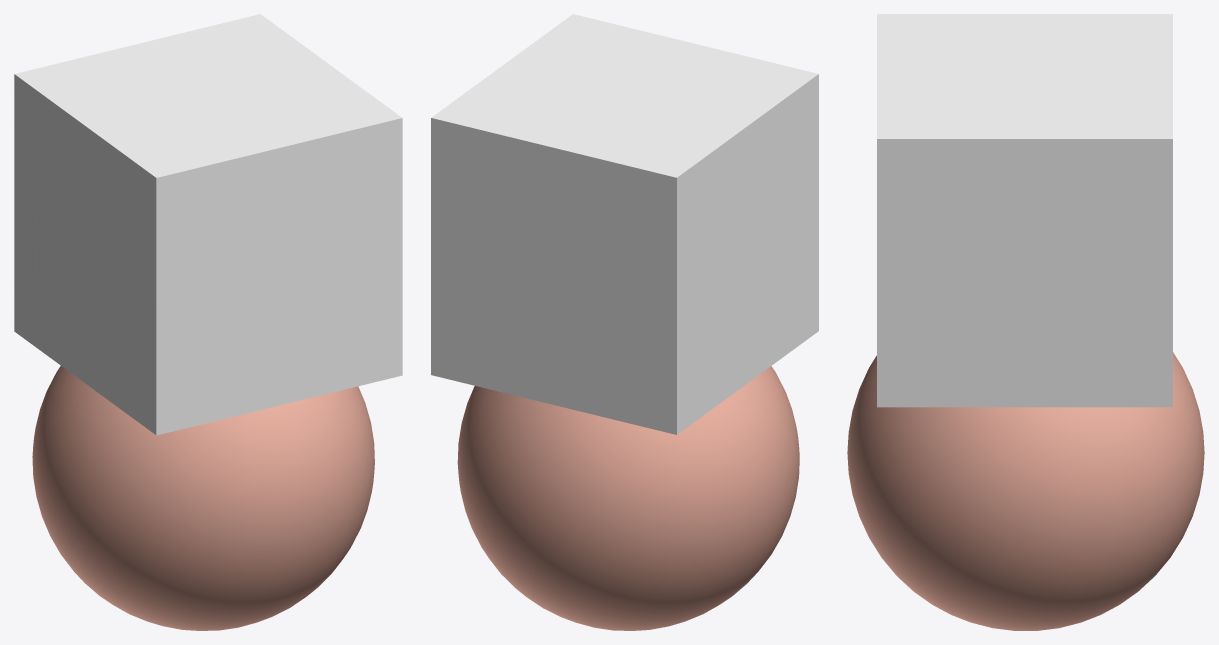
Rendered from sphere_pink.glb.
3 renders of one model, left to right at view 1: azimuth 30°, elevation 25°; view 2: azimuth 150°, elevation 25°; view 3: azimuth 270°, elevation 25°, orthographic. The views are drawn at different scales.
Visible parts, largest first — view 1: placeholder, GeoSphere001; view 2: placeholder, GeoSphere001; view 3: placeholder, GeoSphere001.
Boxes of the visible parts, left/top/right/bottom form: placeholder: left=14, top=14, right=402, bottom=435; GeoSphere001: left=32, top=366, right=374, bottom=630; placeholder: left=431, top=14, right=818, bottom=434; GeoSphere001: left=457, top=366, right=799, bottom=630; placeholder: left=877, top=14, right=1172, bottom=407; GeoSphere001: left=847, top=352, right=1204, bottom=630.
Bounding box in the file's own units: 2.31 × 3.86 × 2.31.
